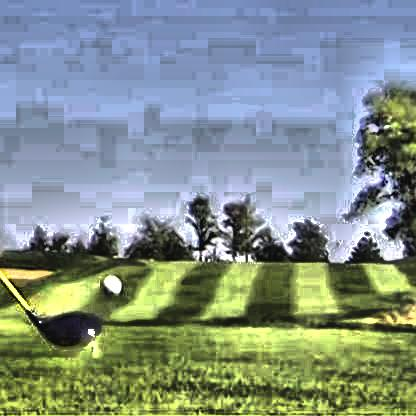golfball: (99, 272, 120, 293)
